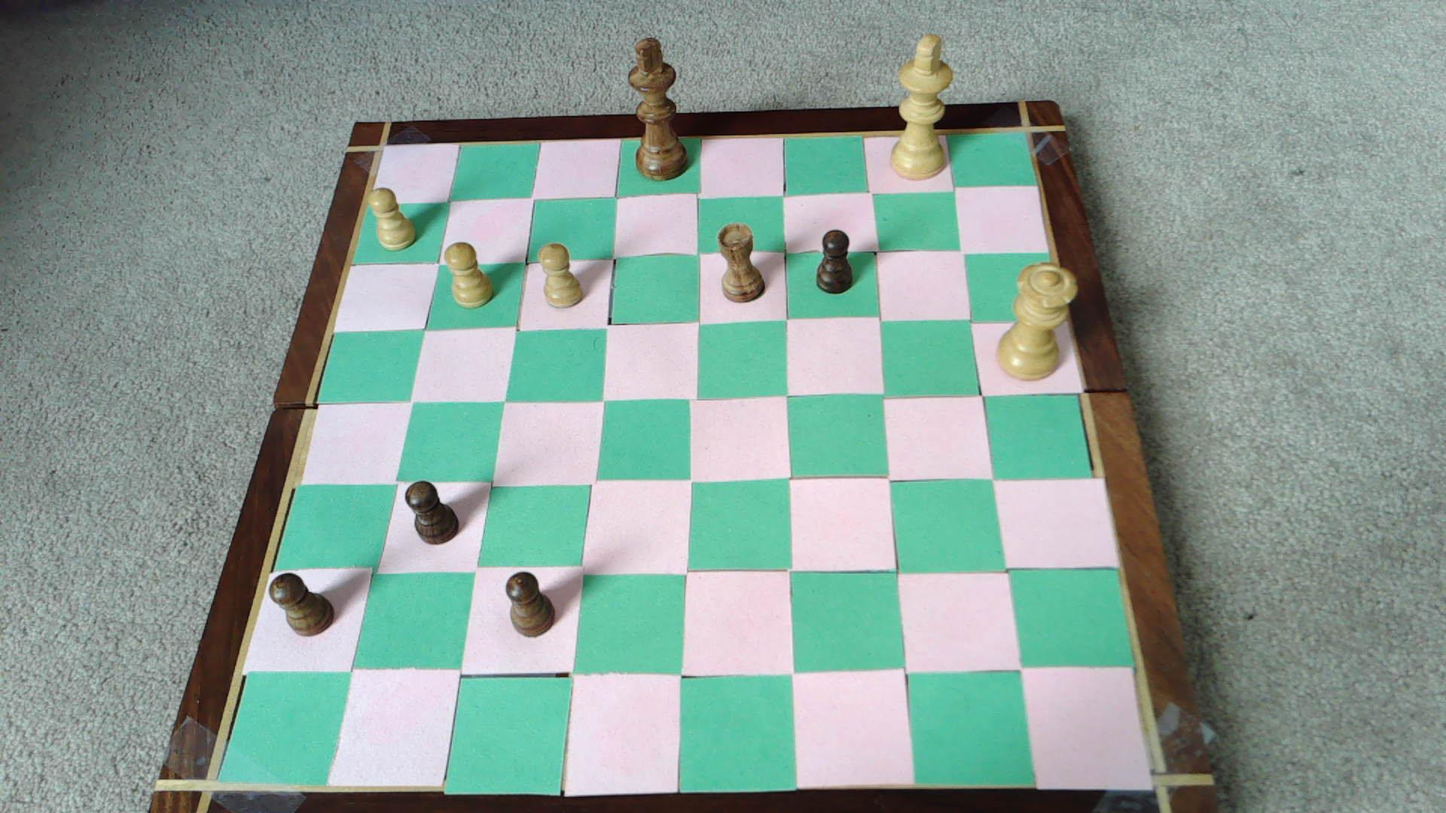dark_piece: (628, 38, 688, 180), (270, 571, 334, 635), (718, 224, 764, 302), (405, 481, 458, 543), (506, 571, 555, 636), (816, 230, 853, 293)
white_piece: (890, 33, 955, 179), (997, 266, 1076, 379), (445, 242, 494, 307), (369, 188, 416, 250), (539, 243, 584, 307)
